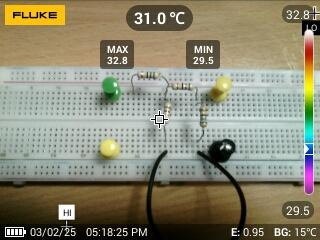resistor: (135, 69, 163, 84), (197, 106, 209, 129), (170, 80, 195, 91), (162, 100, 172, 125)
